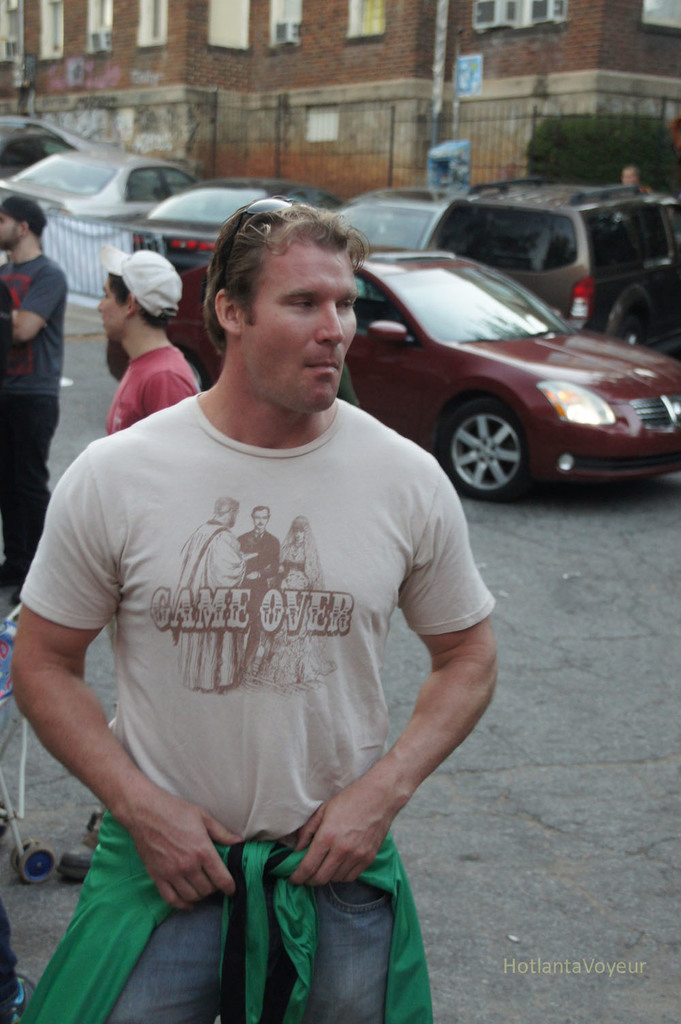Car: (0, 119, 680, 498)
